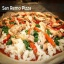basil: (23, 38, 32, 50), (1, 25, 11, 35), (33, 29, 38, 45), (6, 38, 15, 46)
pepper: (43, 32, 57, 48), (28, 40, 38, 55), (35, 25, 42, 33)
pizza: (1, 13, 64, 62)
